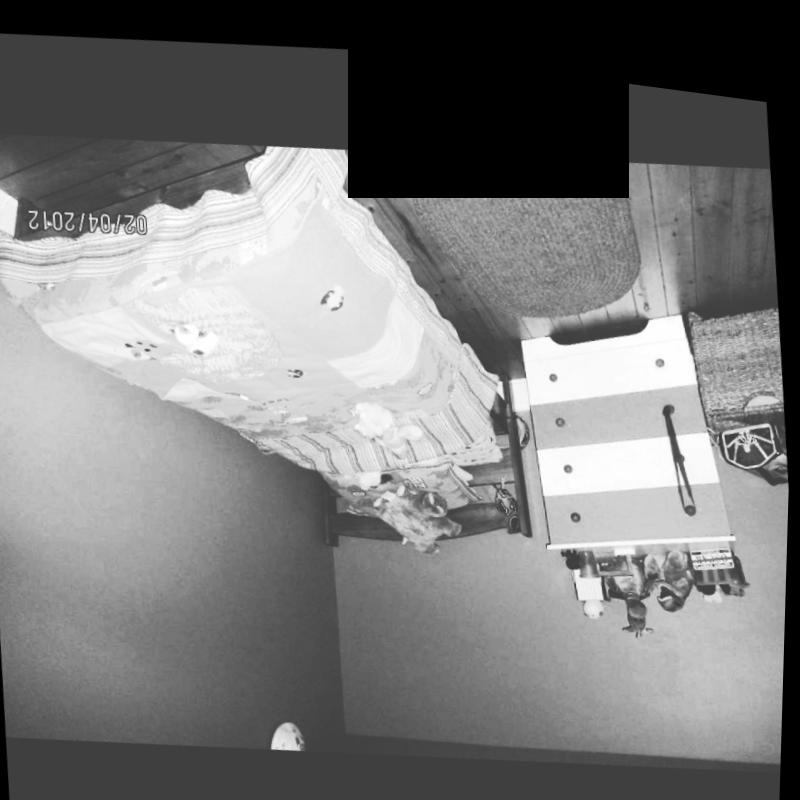pillow: (330, 432, 482, 520)
